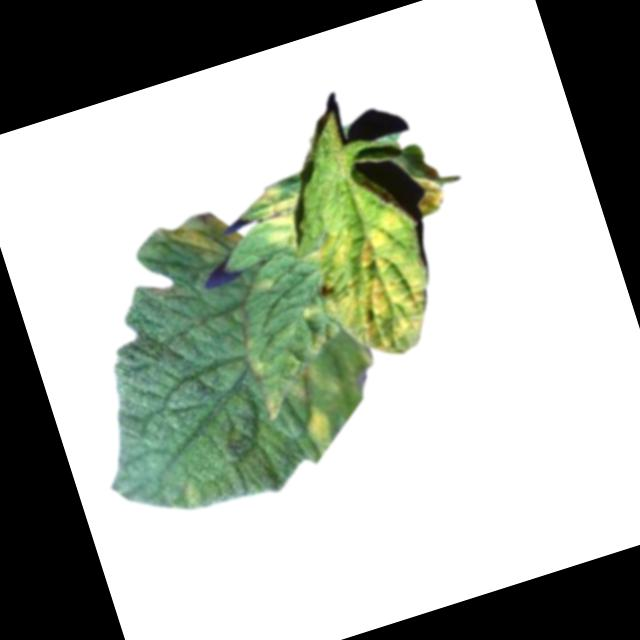Leaf_Mold: (301, 201, 455, 373), (241, 176, 315, 261), (159, 202, 244, 274), (299, 407, 336, 453), (258, 390, 286, 423), (304, 330, 333, 359), (249, 272, 276, 299)
